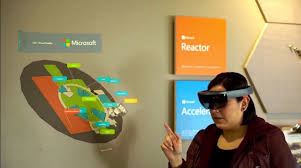hololens: (196, 83, 257, 111)
